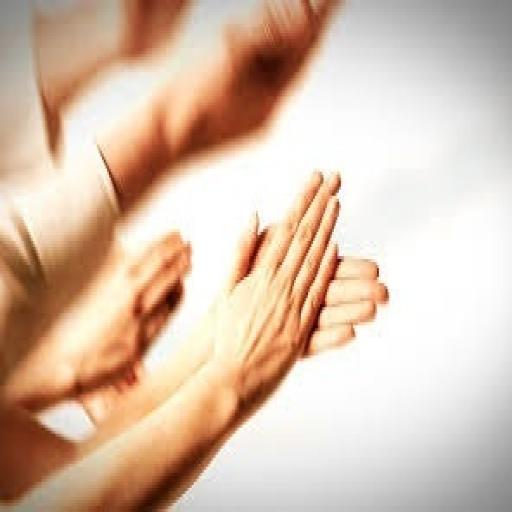clapping: (0, 0, 389, 509)
